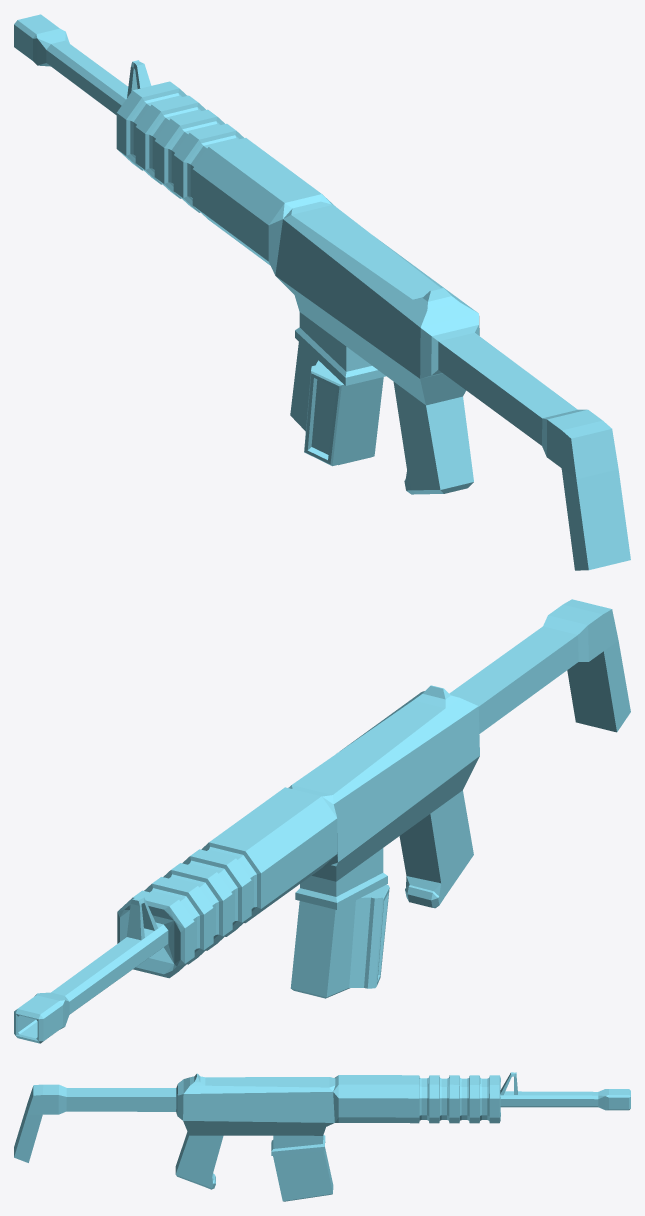
Rendered from assault_rifle_0.glb.
3 renders of one model, top to bottom at view 1: azimuth 30°, elevation 25°; view 2: azimuth 150°, elevation 25°; view 3: azimuth 270°, elevation 25°, orthographic. The views are drawn at different scales.
Visible parts, largest first — view 1: gun, gun.001; view 2: gun; view 3: gun.
Boxes of the visible parts, x1,y1,x2,y2 form: gun: (14,14,630,570); gun.001: (311,379,336,454); gun: (14,599,630,1043); gun: (14,1072,630,1201).
Size of the model in its own units: 0.7773 by 2.43 by 10.86.
1 material, 1 textured.
